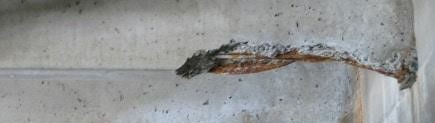Exposed reinforcement: (215, 53, 329, 60)
Spalling: (173, 38, 419, 91)
